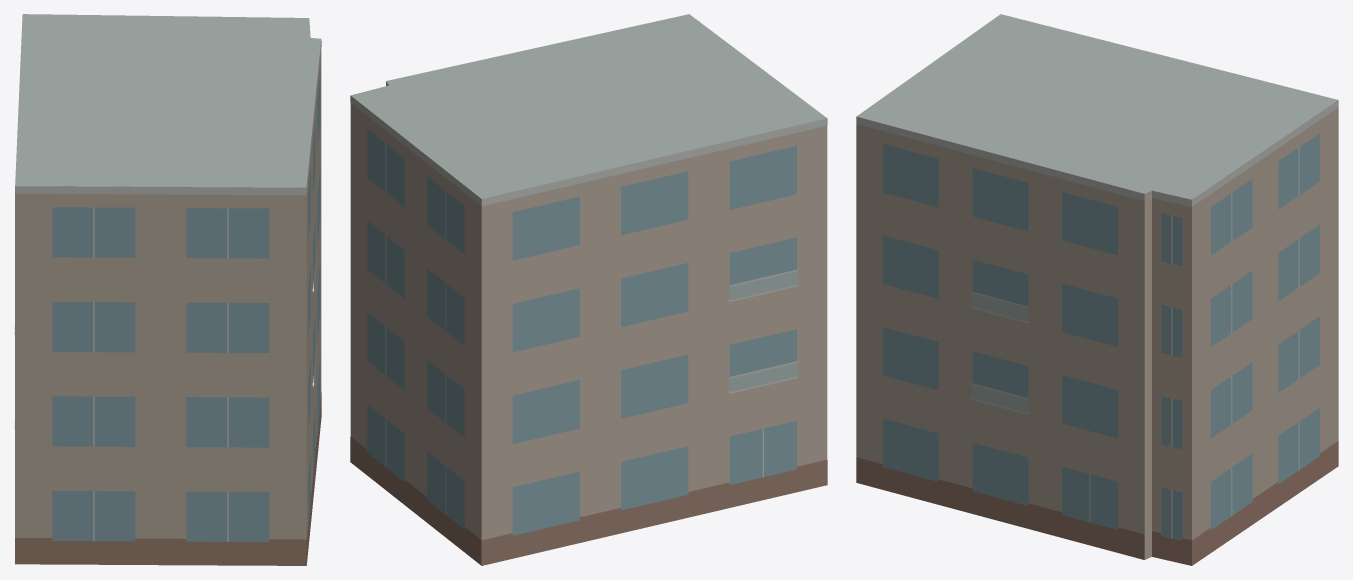
File: survey-upis-32674561.glb
3 views of the same model, side by side, from view 1: azimuth 30°, elevation 25°; view 2: azimuth 150°, elevation 25°; view 3: azimuth 270°, elevation 25° (orthographic). The views are drawn at different scales.
Visible parts, largest first — view 1: survey-upis-32674561.tmp; view 2: survey-upis-32674561.tmp; view 3: survey-upis-32674561.tmp.
Part boxes in pixels (x1,y1,x2,y2): survey-upis-32674561.tmp: (14,14,321,565); survey-upis-32674561.tmp: (350,14,827,565); survey-upis-32674561.tmp: (856,14,1338,565).
Bounding box in the file's own units: 13.39 × 12.3 × 14.69.
